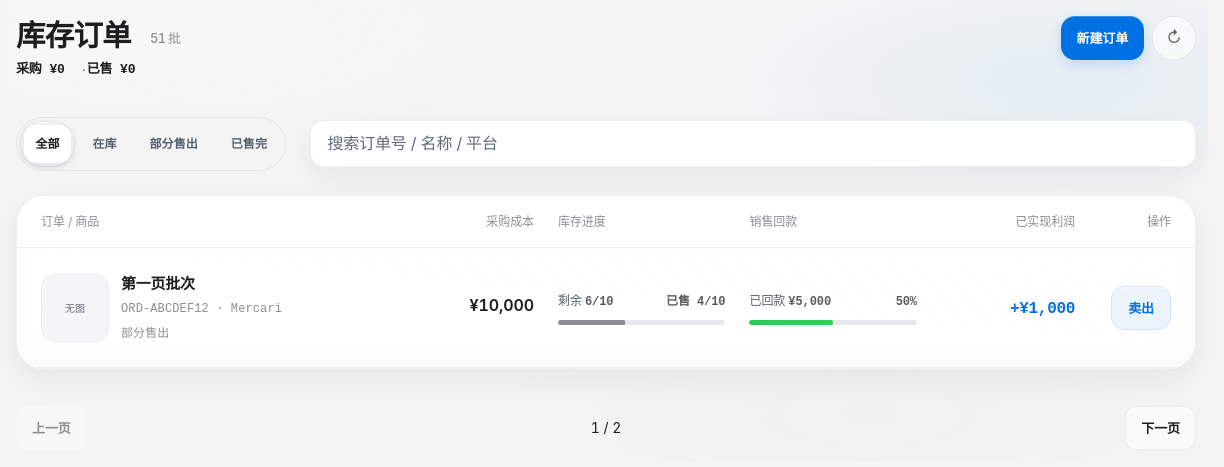
Test: InventoryOrdersWorkspace › paginates beyond 50 orders and resets the page when filtering
Click the button with aria-label "下一页库存订单": (1161, 428) left=1125, top=406, right=1196, bottom=450
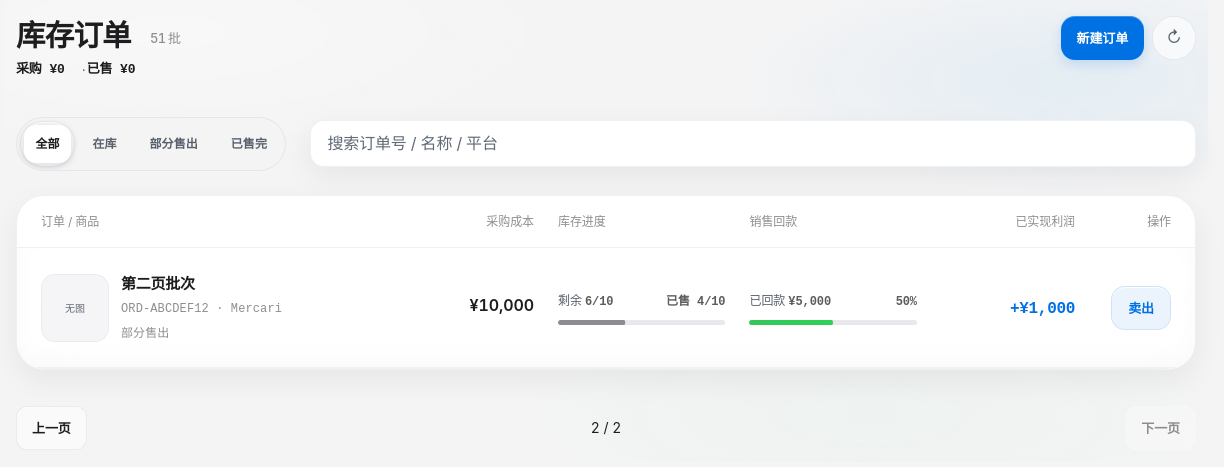
Now the text "第二页批次" is shown, box left=121, top=274, right=195, bottom=293
Click the tab "在库": (104, 144) left=78, top=122, right=131, bottom=166
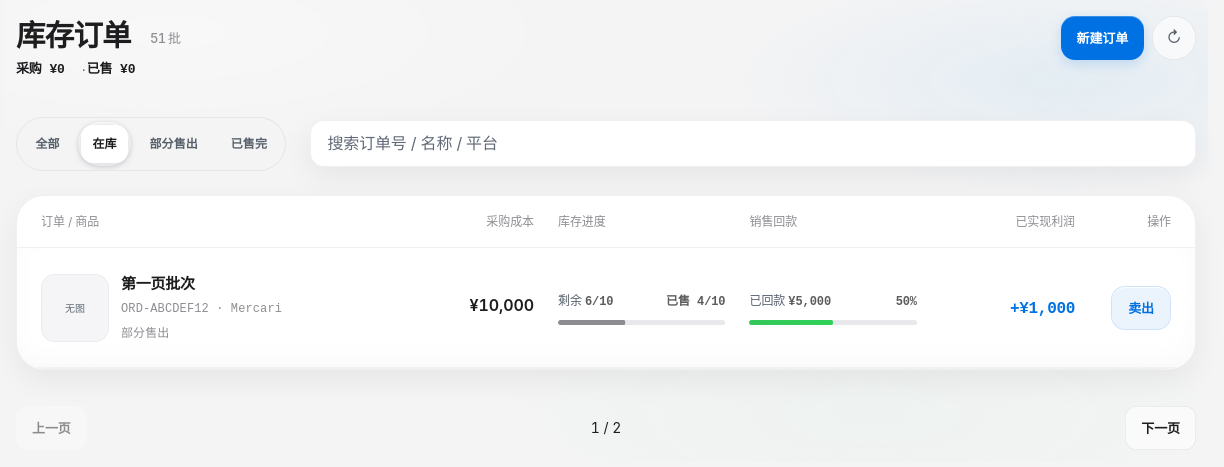
Now the text "第一页批次" is shown, box left=121, top=274, right=195, bottom=293
